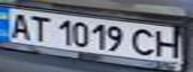0: (69, 19, 90, 48)
1: (87, 21, 109, 51), (51, 17, 72, 46)
9: (106, 23, 130, 53)
A: (3, 10, 33, 40)
C: (127, 26, 160, 56)
H: (151, 28, 184, 58)
T: (27, 12, 54, 43)
